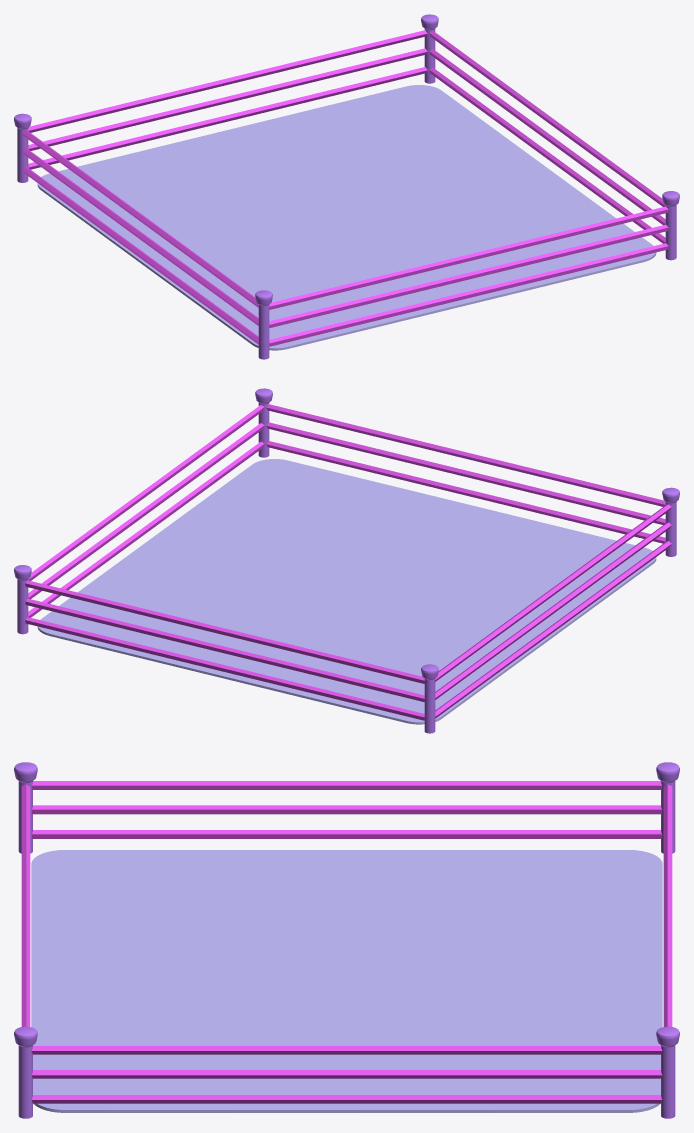
The model's file is Loca_2.fbx.
3 views of the same model, one above another, from view 1: azimuth 30°, elevation 25°; view 2: azimuth 150°, elevation 25°; view 3: azimuth 270°, elevation 25° (orthographic). The views are drawn at different scales.
Visible parts, largest first — view 1: Loca_2; view 2: Loca_2; view 3: Loca_2.
Part boxes in pixels (x1,y1,x2,y2): Loca_2: (14, 14, 679, 359); Loca_2: (14, 388, 679, 733); Loca_2: (14, 762, 679, 1118).
Size of the model in its own units: 684 by 98.69 by 701.
